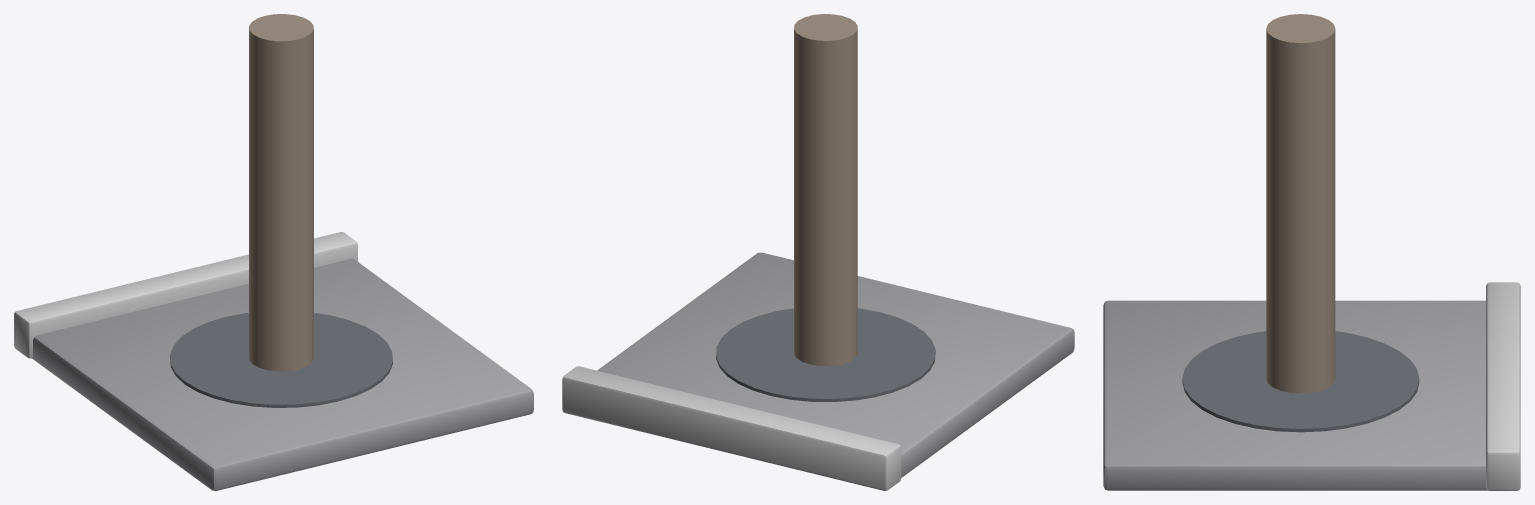
The model's file is cobblestone-quay-tree-grate.glb.
3 renders of one model, left to right at view 1: azimuth 30°, elevation 25°; view 2: azimuth 150°, elevation 25°; view 3: azimuth 270°, elevation 25°, orthographic. The views are drawn at different scales.
Visible parts, largest first — view 1: quay_CobblestoneSlab, quay_UrbanElmTrunk, quay_CastIronGrate, quay_GraniteCurb; view 2: quay_CobblestoneSlab, quay_UrbanElmTrunk, quay_GraniteCurb, quay_CastIronGrate; view 3: quay_CobblestoneSlab, quay_UrbanElmTrunk, quay_CastIronGrate, quay_GraniteCurb.
Part boxes in pixels (x1=…): quay_CobblestoneSlab: x1=32, y1=258, x2=533, y2=490; quay_UrbanElmTrunk: x1=249, y1=14, x2=313, y2=371; quay_CastIronGrate: x1=170, y1=312, x2=392, y2=407; quay_GraniteCurb: x1=14, y1=232, x2=357, y2=358; quay_CobblestoneSlab: x1=597, y1=252, x2=1074, y2=477; quay_UrbanElmTrunk: x1=794, y1=14, x2=857, y2=365; quay_GraniteCurb: x1=562, y1=366, x2=901, y2=490; quay_CastIronGrate: x1=716, y1=308, x2=935, y2=401; quay_CobblestoneSlab: x1=1103, y1=300, x2=1487, y2=490; quay_UrbanElmTrunk: x1=1266, y1=14, x2=1335, y2=393; quay_CastIronGrate: x1=1182, y1=331, x2=1419, y2=432; quay_GraniteCurb: x1=1486, y1=282, x2=1520, y2=490.
Size of the model in its own units: 1.64 by 1.7 by 1.69.
